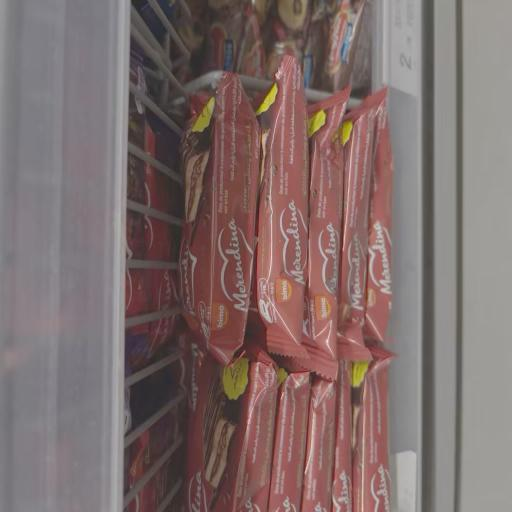merendina: (167, 74, 257, 366), (260, 66, 317, 368), (358, 88, 414, 366), (178, 363, 267, 510)
